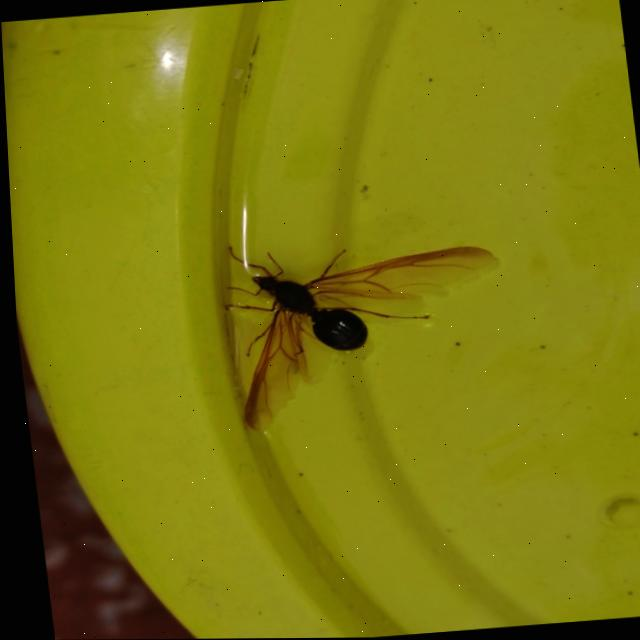Alive-Male-Alate: (212, 226, 509, 433)
